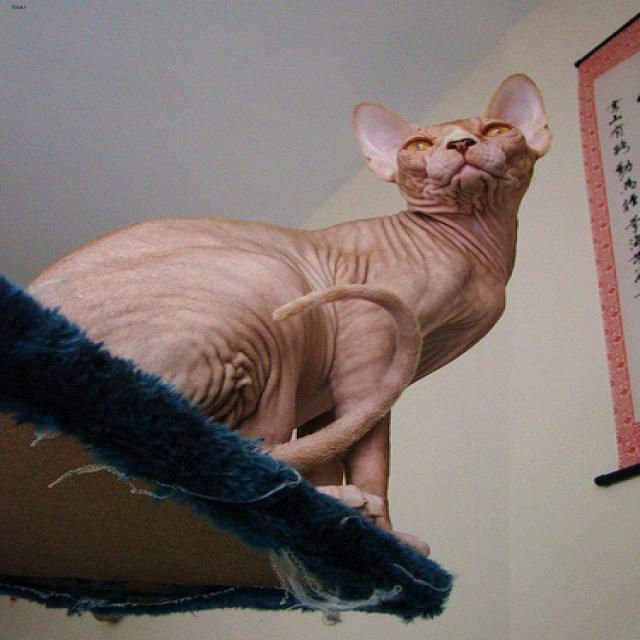Sphynx: (352, 68, 555, 217)
